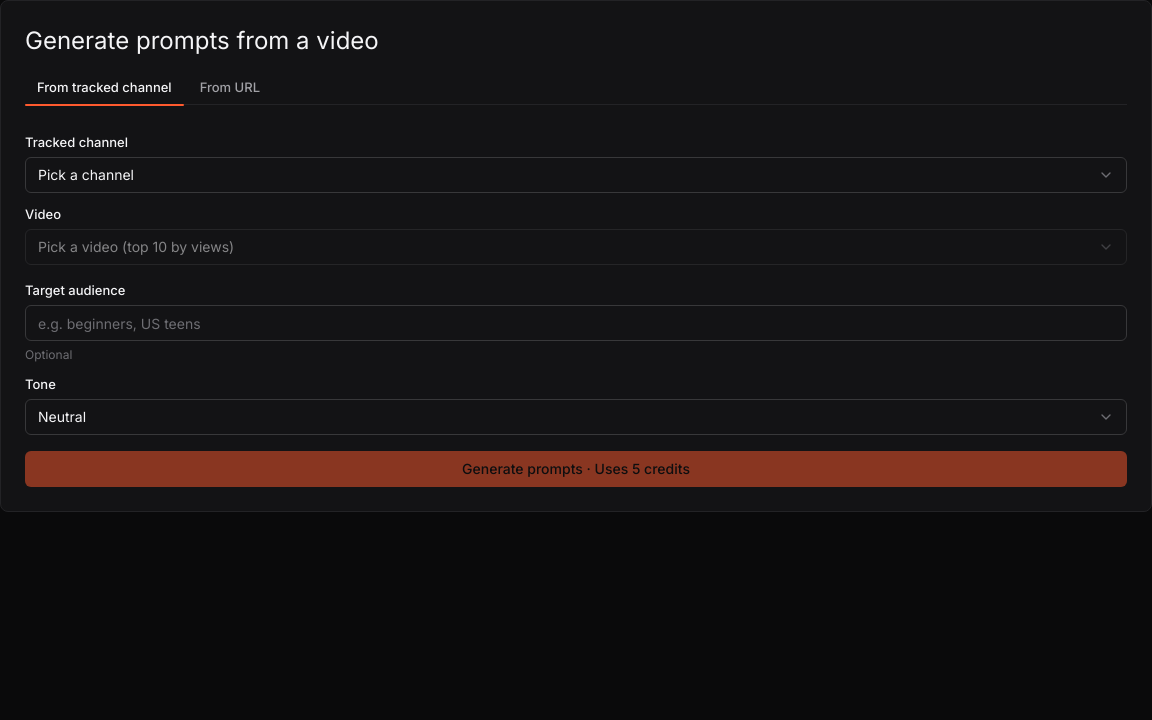
Test: GeneratorForm › shows an insufficient-credits message and stays on the form
Click the tab "From URL". click: (230, 86)
box: x1=188 y1=68 x2=272 y2=104
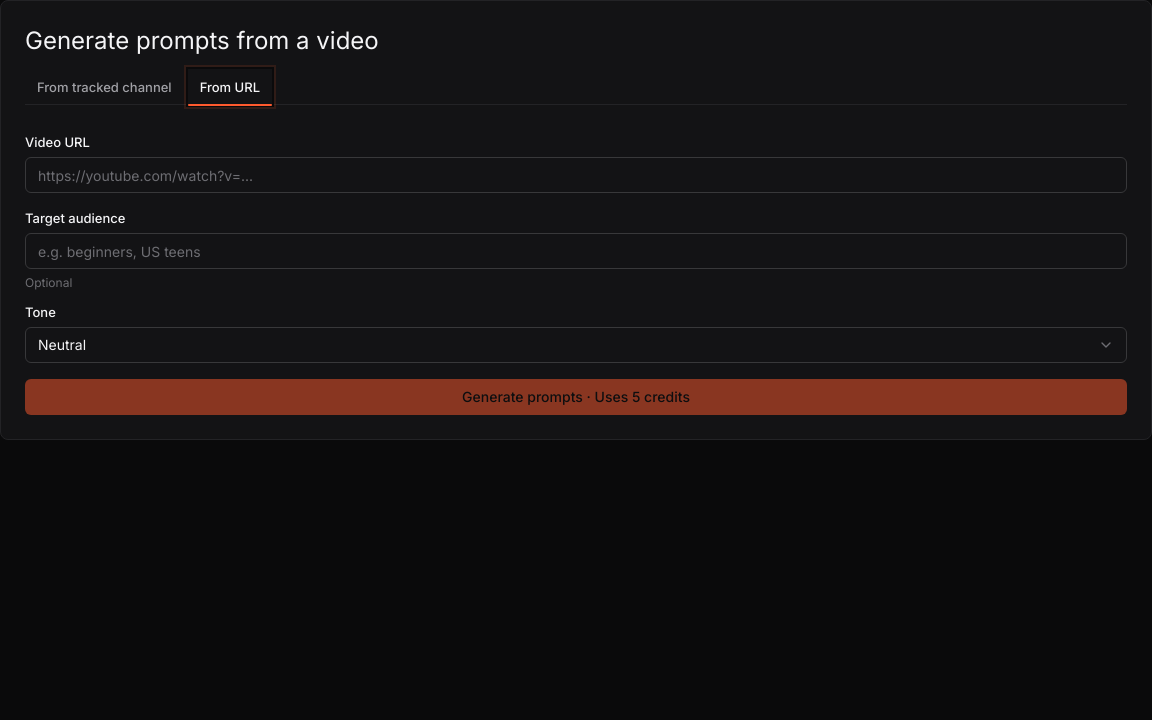
Type "https://youtube.com/watch?v=abc123" into the field labelled "Video URL". click: (576, 175)
box: x1=25 y1=157 x2=1127 y2=193
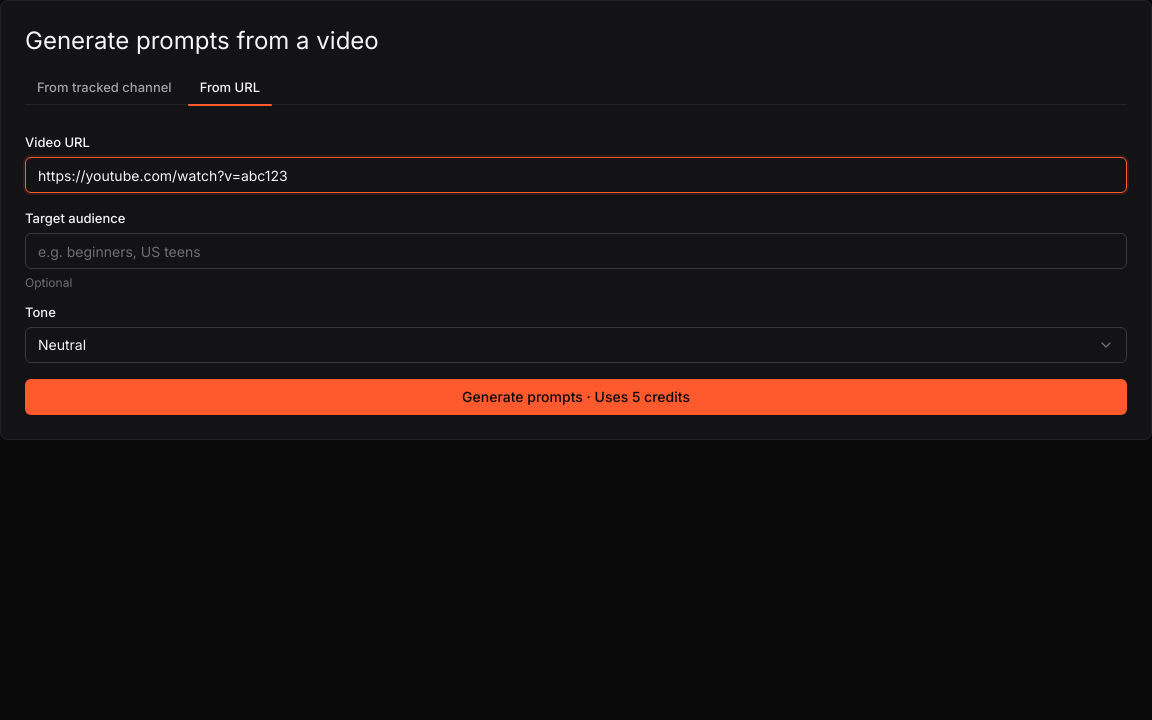
Click the button "Generate prompts · Uses 5 credits". click: (576, 397)
box: x1=25 y1=379 x2=1127 y2=415
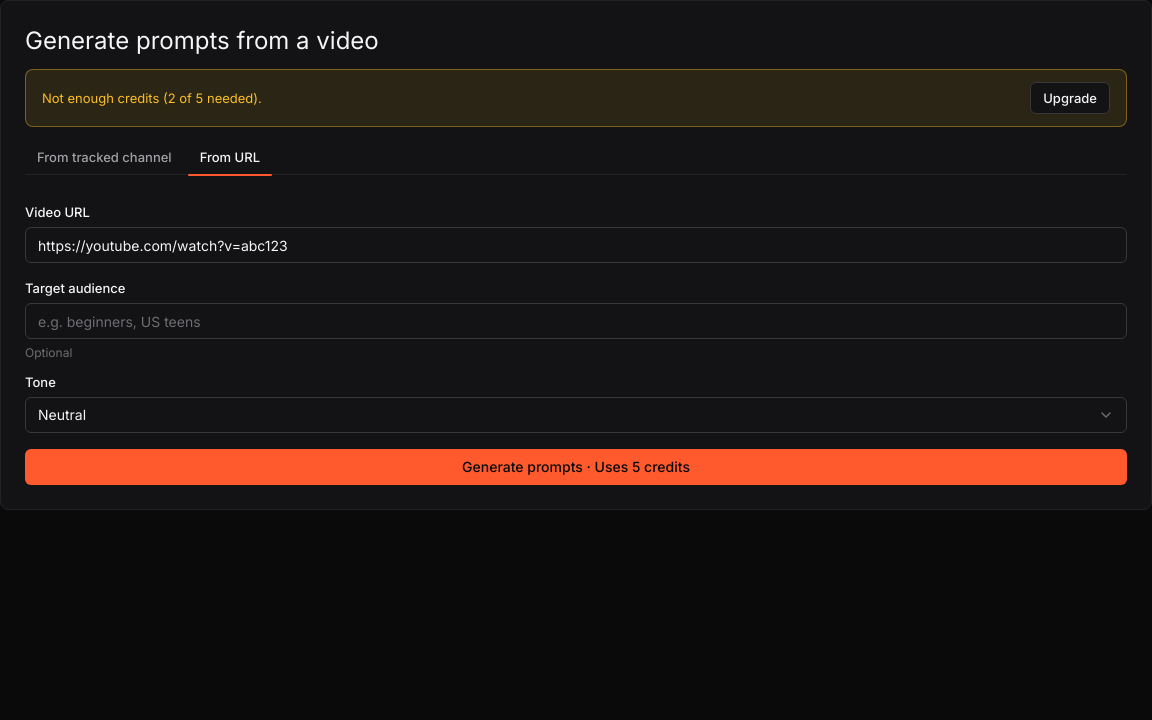
Expected: the text "Not enough credits (2 of 5 needed)." is shown, x1=42 y1=89 x2=262 y2=107
